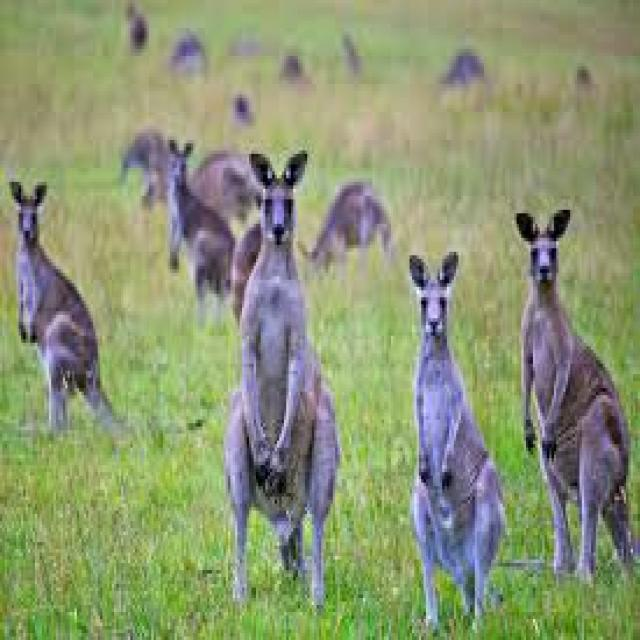kangaroo: (223, 150, 337, 602), (514, 210, 633, 577), (410, 252, 503, 623), (9, 182, 114, 430), (168, 140, 233, 301)
